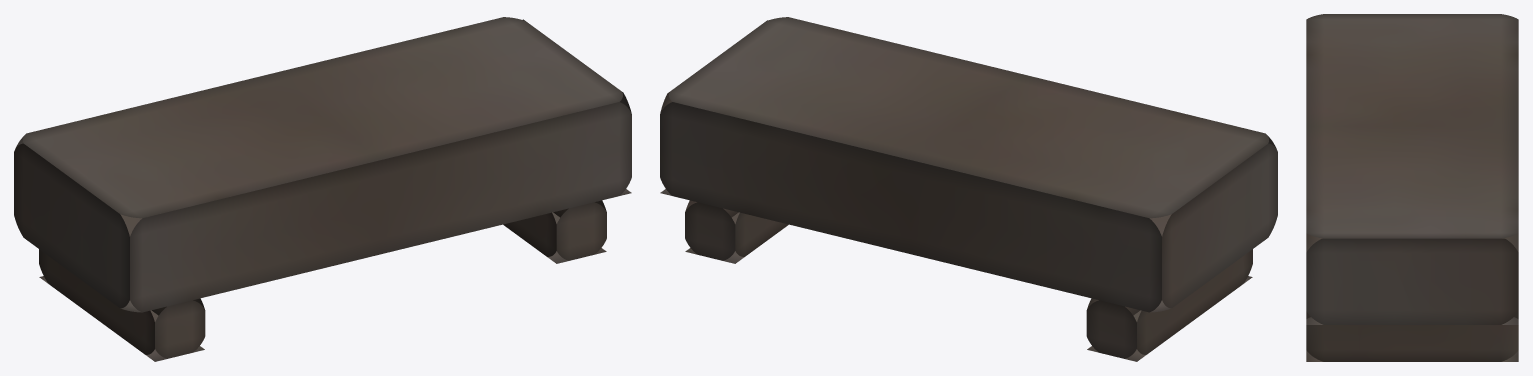
File: lathebase.obj
3 views of the same model, side by side, from view 1: azimuth 30°, elevation 25°; view 2: azimuth 150°, elevation 25°; view 3: azimuth 270°, elevation 25° (orthographic). The views are drawn at different scales.
Visible parts, largest first — view 1: lathebase; view 2: lathebase; view 3: lathebase.
Part boxes in pixels (left/top/right/bottom): lathebase: left=14, top=17, right=631, bottom=361; lathebase: left=660, top=17, right=1277, bottom=361; lathebase: left=1306, top=14, right=1518, bottom=361.
Size of the model in its own units: 1 by 0.2793 by 0.4.
